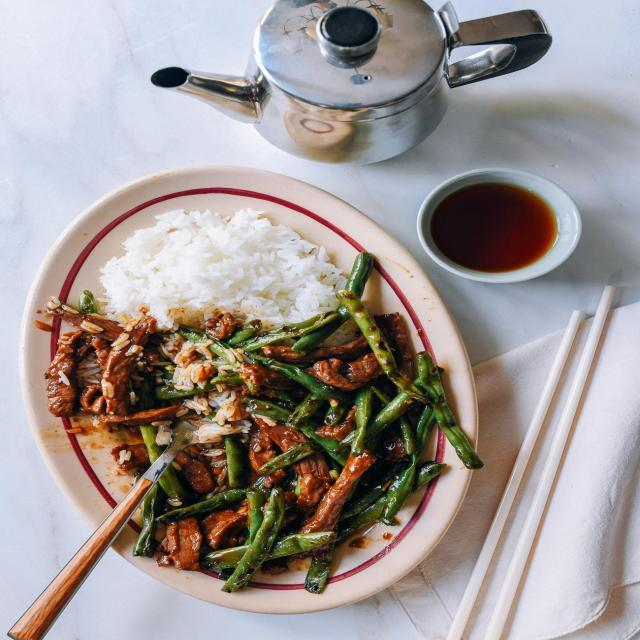Beans: (113, 302, 460, 600)
